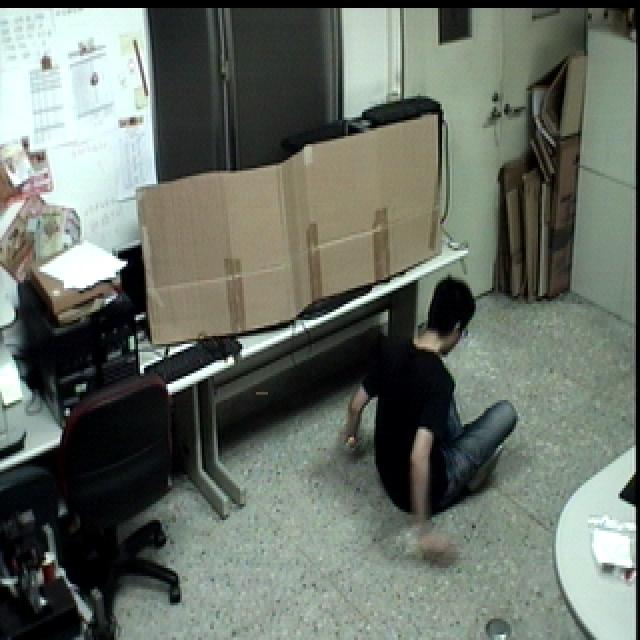sit: (338, 267, 524, 566)
